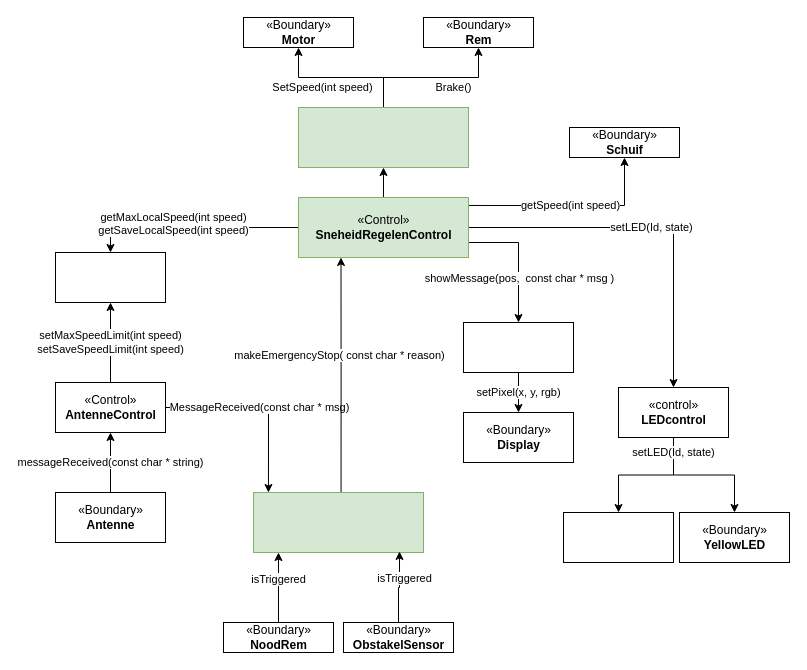
The diagram is 807 pixels wide and 670 high, and some of its shapes have lost their labels. Here are the shapes that lost their labels. From the top down, the centre of each, then its label:
At (383,137): "«Control» MotorControl".
At (110,277): "«Entity» LocalSpeedLimits".
At (518,347): "«control» Displaycontrol".
At (338,522): "«Control» NoodstopMaken".
At (618,537): "«Boundary» RedLED".
